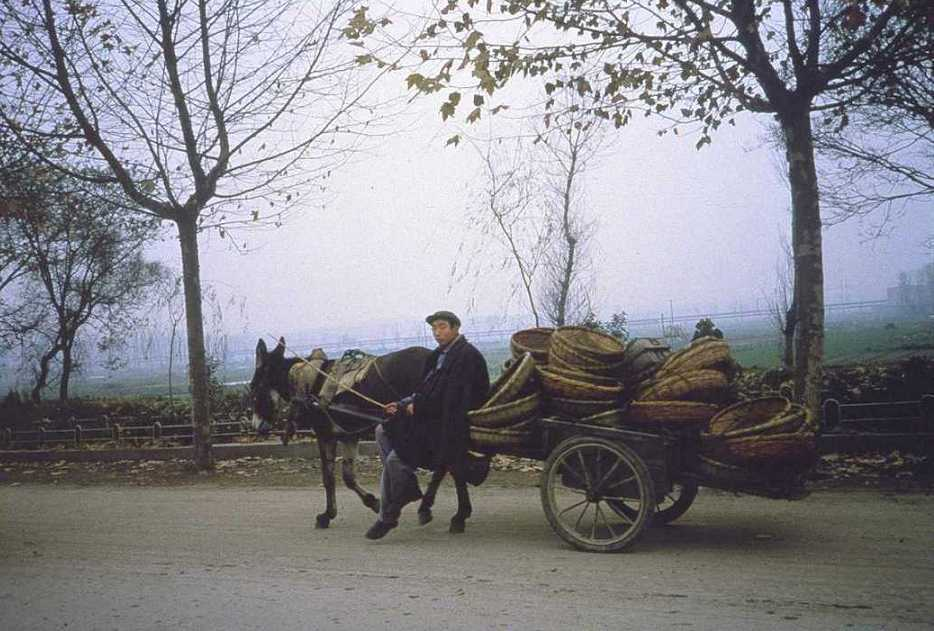horse: (246, 335, 473, 537)
